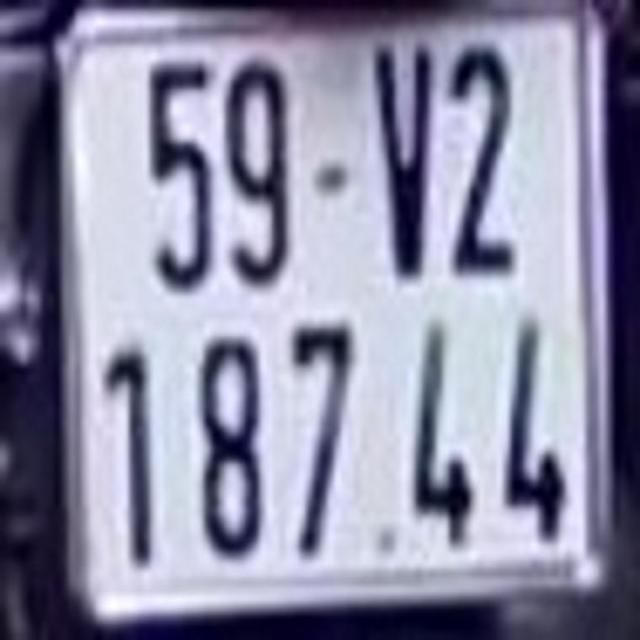1: (96, 332, 158, 567)
2: (445, 36, 518, 278)
4: (498, 306, 570, 551), (411, 308, 477, 546)
5: (143, 56, 214, 292)
7: (288, 318, 355, 556)
8: (194, 329, 266, 560)
9: (221, 58, 294, 288)
V: (366, 41, 434, 282)
